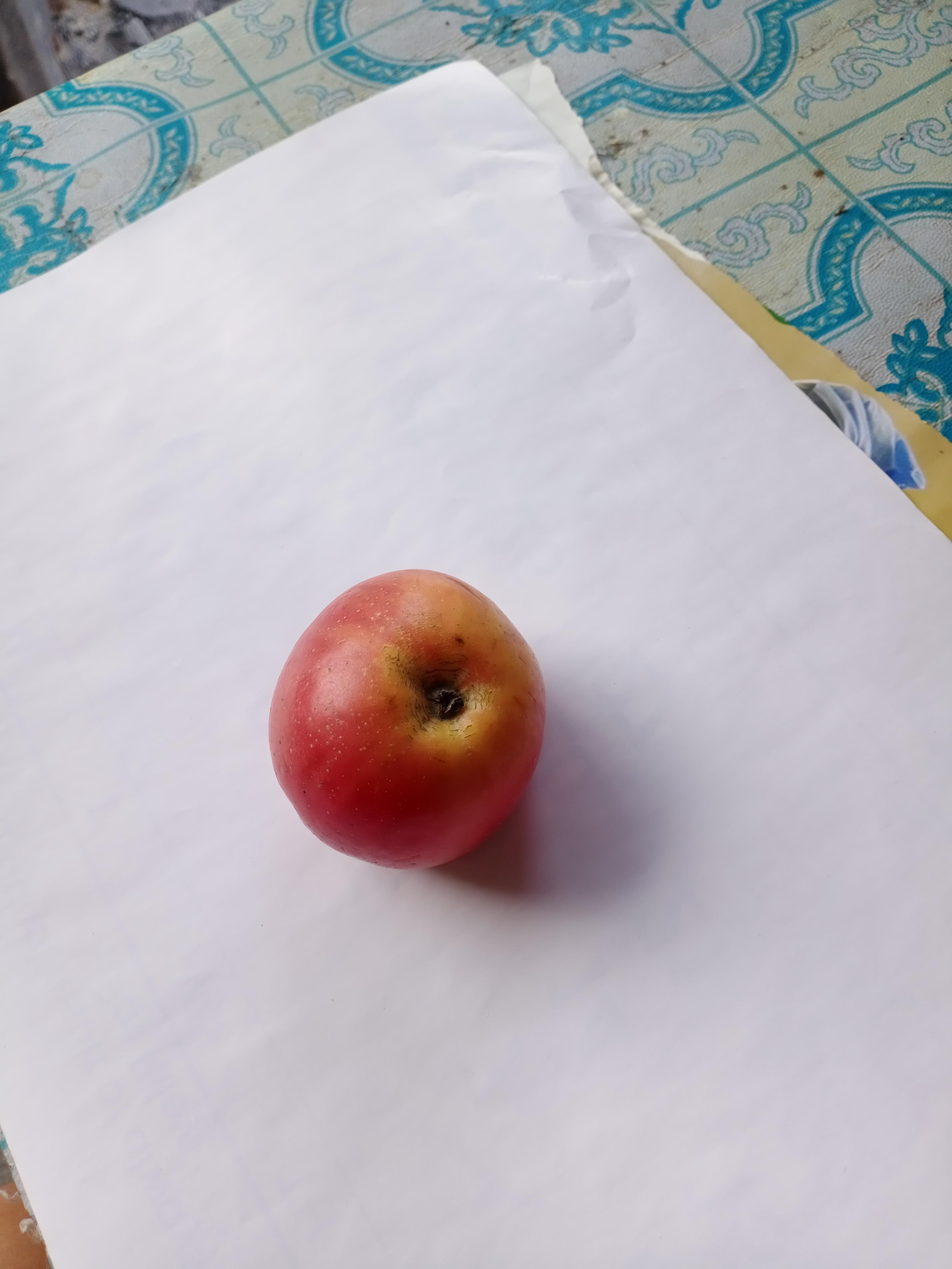Apple Ripe: (254, 556, 584, 898)
